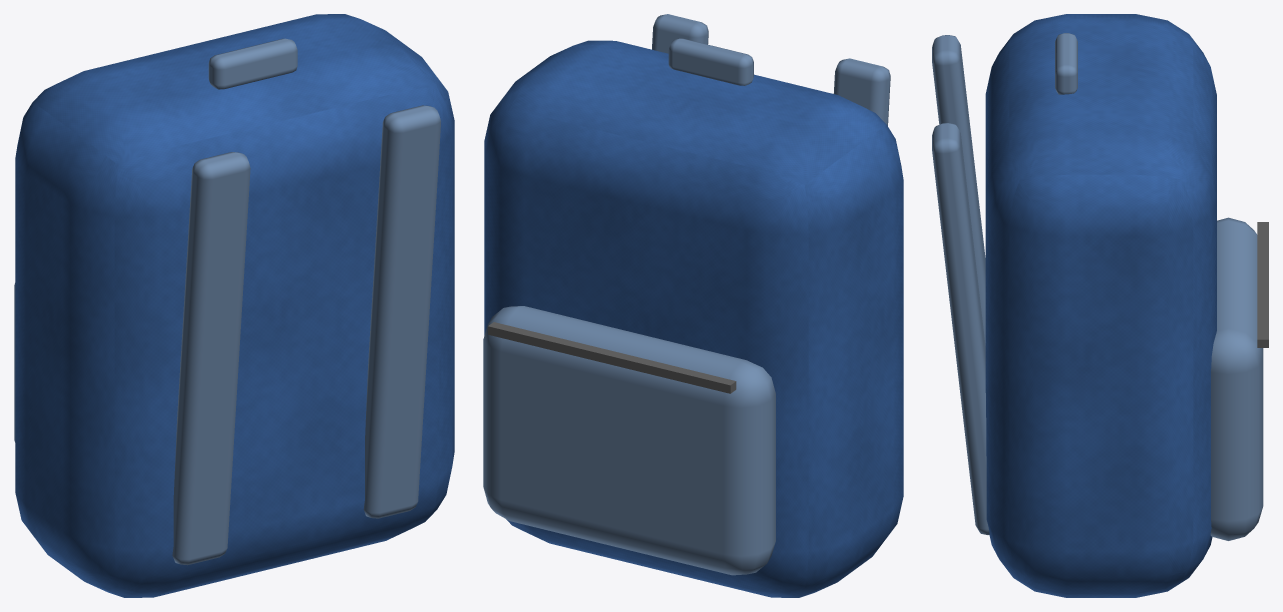
The model's file is escena.casa.mochila.fbx.
3 views of the same model, side by side, from view 1: azimuth 30°, elevation 25°; view 2: azimuth 150°, elevation 25°; view 3: azimuth 270°, elevation 25° (orthographic). The views are drawn at different scales.
Visible parts, largest first — view 1: Cuerpo, Tirante.001, Tirante, Asa; view 2: Cuerpo, Bolsillo, Cierre, Asa, Tirante.001, Tirante; view 3: Cuerpo, Bolsillo, Tirante, Tirante.001, Cierre, Asa.
Part boxes in pixels (x1,y1,x2,y2): Cuerpo: [15, 14, 454, 597]; Tirante.001: [172, 152, 250, 565]; Tirante: [363, 105, 440, 518]; Asa: [208, 38, 297, 89]; Cuerpo: [484, 40, 903, 597]; Bolsillo: [483, 306, 775, 575]; Cierre: [488, 322, 736, 393]; Asa: [668, 38, 753, 85]; Tirante.001: [833, 58, 890, 125]; Tirante: [652, 14, 708, 53]; Cuerpo: [985, 14, 1216, 597]; Bolsillo: [1210, 217, 1263, 540]; Tirante: [932, 123, 989, 534]; Tirante.001: [932, 35, 985, 345]; Cierre: [1257, 222, 1268, 347]; Asa: [1055, 33, 1077, 94].
Size of the model in its own units: 0.36 by 0.465 by 0.2912.
3 materials, 1 textured.
